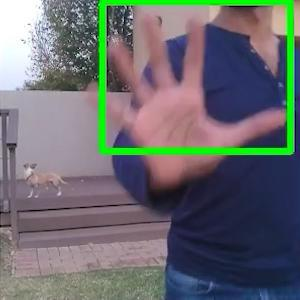follow_hand: (78, 0, 289, 180)
